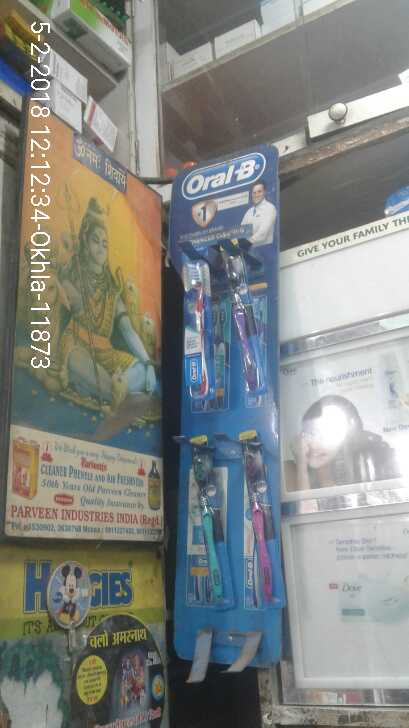oralb: (182, 442, 231, 611), (239, 448, 278, 616), (172, 257, 210, 411)
